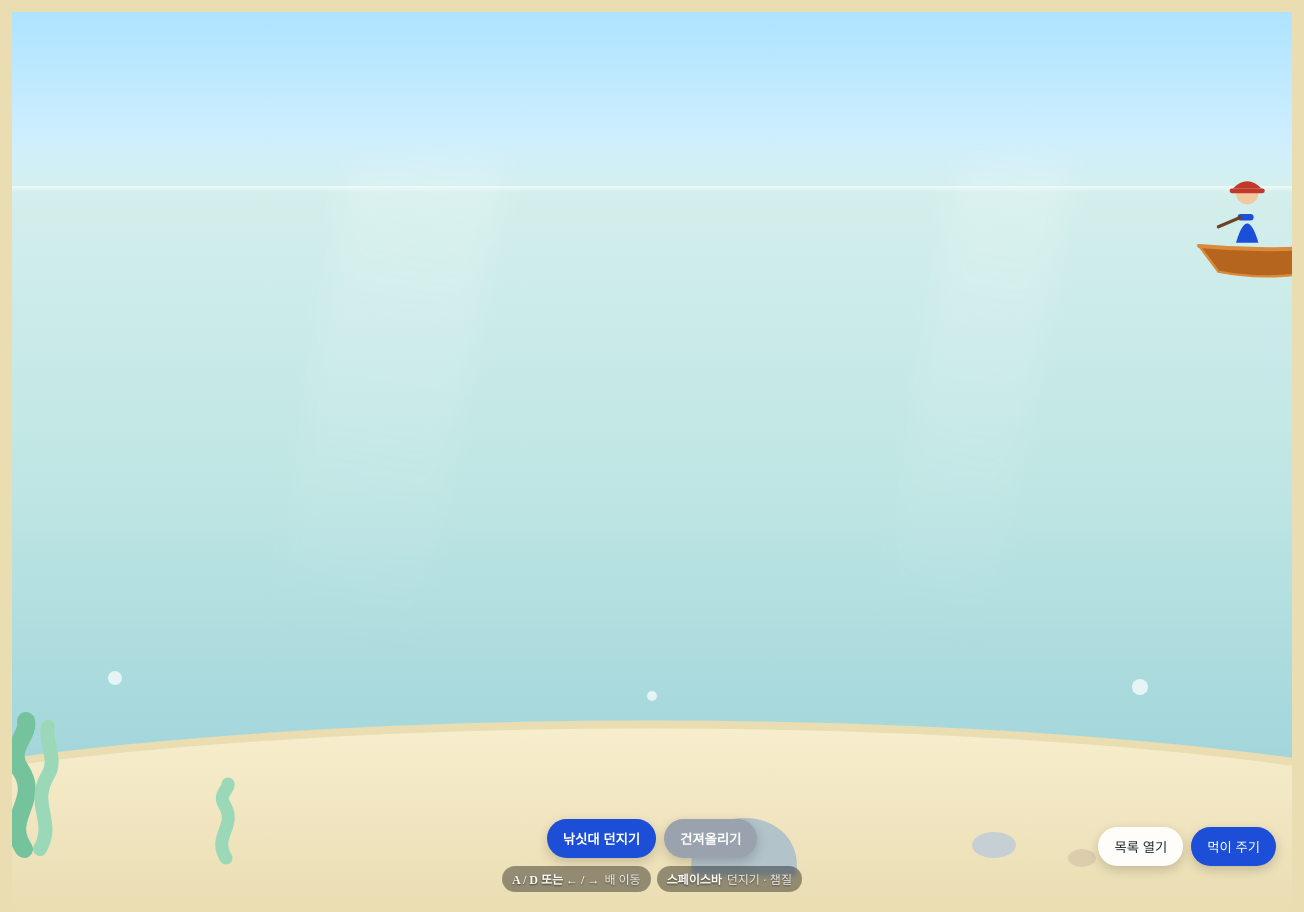
FishTank 낚시 미니게임 (SPEC-CATCH-001) › 확률 굴림에 실패하면 물고기가 그냥 스쳐 지나가 입질이 오지 않고, 같은 물고기를 매 틱 재굴림하지 않는다 (BITE_CHANCE)
Click the button "낚싯대 던지기" at {"x": 601, "y": 838}, box [547,819,656,858]
Wait 1000 ms
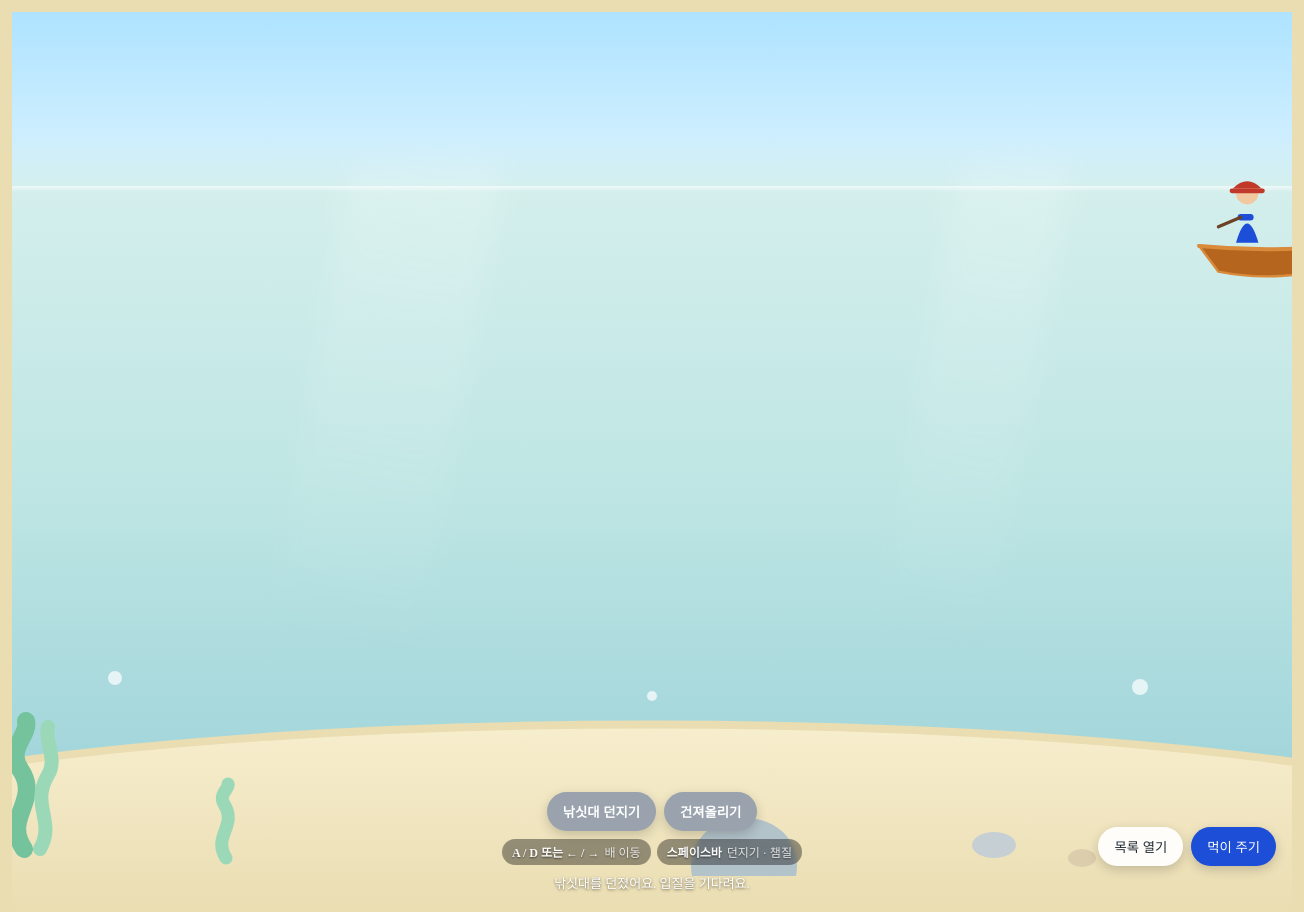
Check: the button "건져올리기" is disabled, box [664,792,757,831]
Check: the message named "낚시 안내" shows "입질을 기다려요", box [554,876,750,891]
